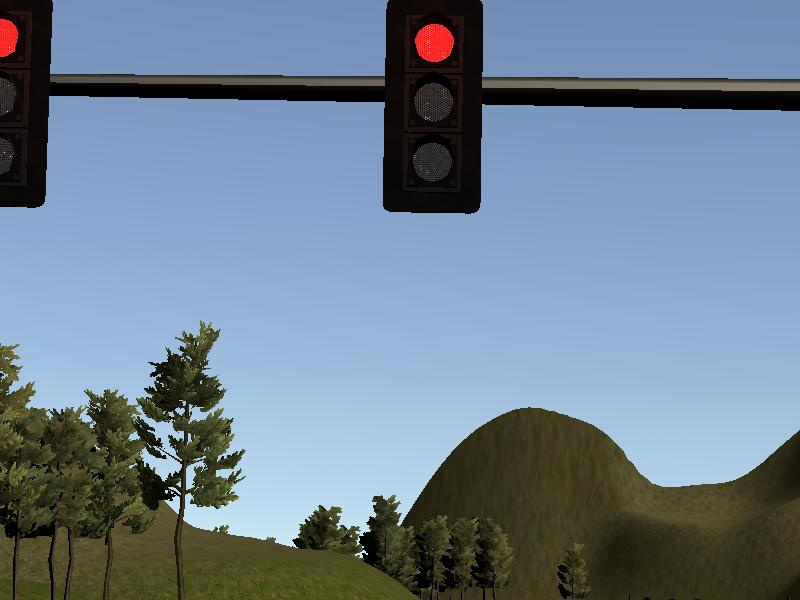red_light: (388, 3, 483, 214)
